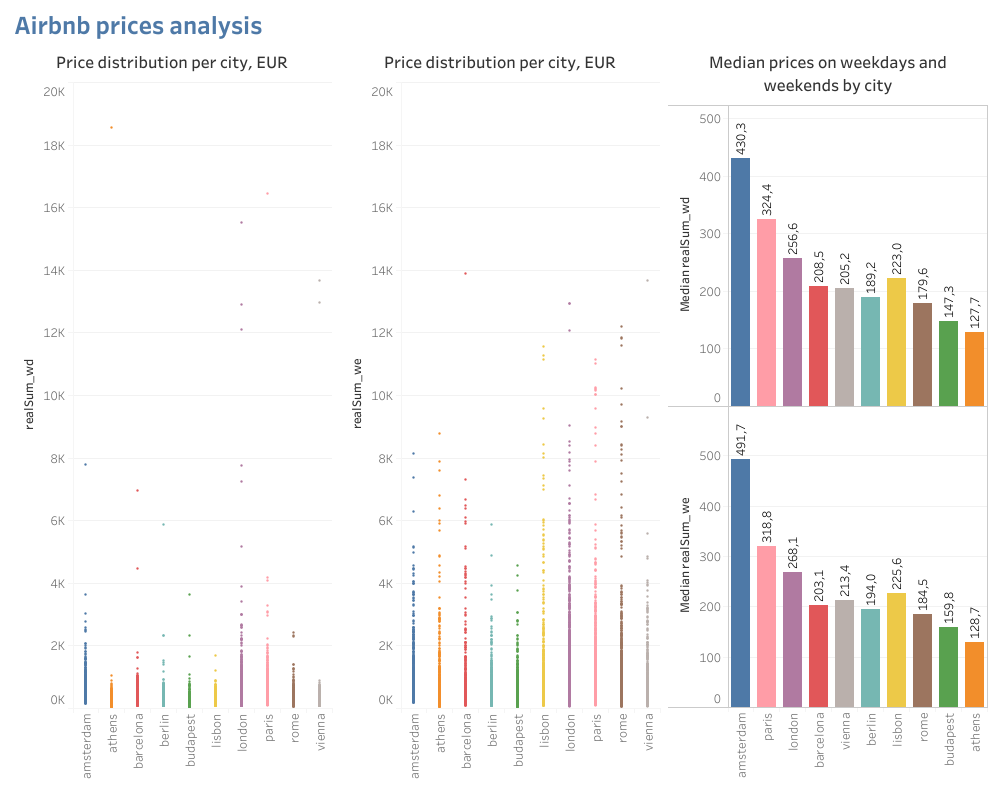

The dashboard page shown, as its layout file describes it:
{"tool":"tableau","page":{"name":"Dashboard_3","canvas":[1000,800],"ordinal":3},"visuals":[{"type":"text","box":[8,8,984,32]},{"type":"worksheet","title":"c_price_dist","mark":"Circle","rows":["realSum_wd"],"cols":["city"],"box":[8,40,328,752]},{"type":"worksheet","title":"c_price_dist (2)","mark":"Circle","rows":["realSum_we"],"cols":["city"],"box":[336,40,328,752]},{"type":"worksheet","title":"c_price_med","mark":"Automatic","rows":["realSum_wd","realSum_we"],"cols":["city"],"box":[664,40,328,752]}]}

Visuals, with their boxes in screenshot pixels (x1, y1, x2, y2), scaled from the page's 1000x800 canvas onto the 999x799 screenshot:
text: (8,8,991,40)
"c_price_dist" worksheet (Circle marks): (8,40,336,791)
"c_price_dist (2)" worksheet (Circle marks): (336,40,663,791)
"c_price_med" worksheet: (663,40,991,791)
